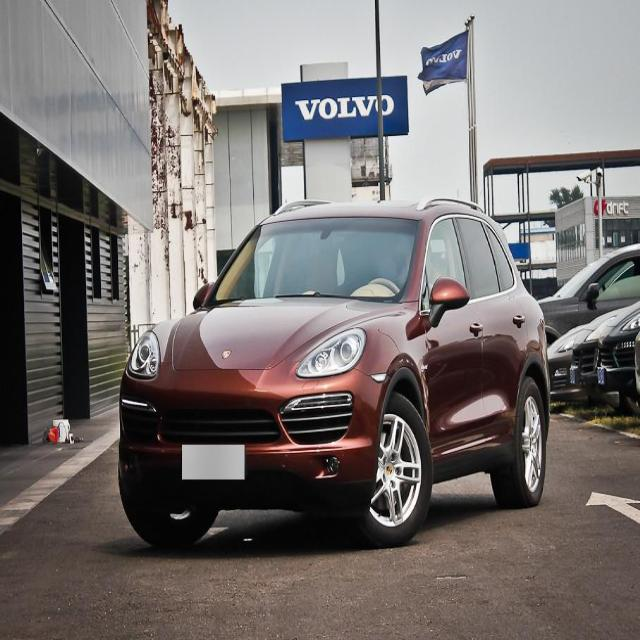front_bumper: (117, 370, 373, 519)
front_glass: (208, 210, 424, 306)
front_left_side_door: (418, 212, 487, 453)
front_left_side_light: (295, 323, 367, 380)
front_left_side_mirror: (427, 275, 469, 323)
front_right_side_light: (124, 330, 161, 382)
front_right_side_mirror: (192, 279, 214, 310)
wheel: (354, 392, 432, 544), (492, 376, 546, 507)
